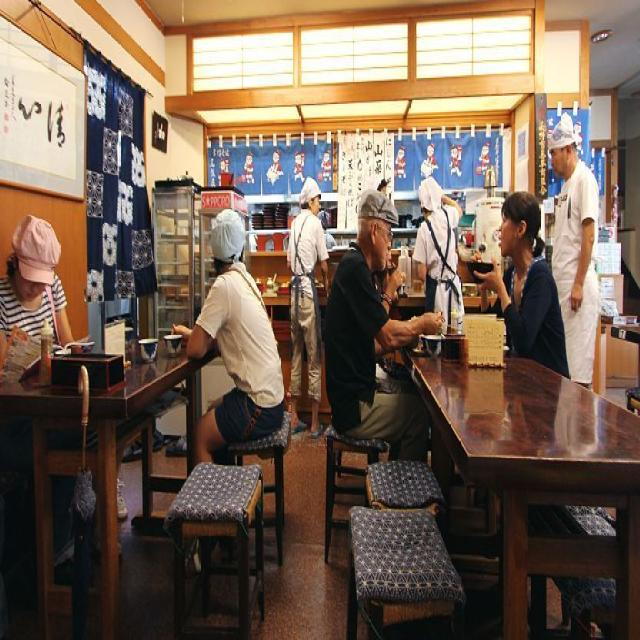person: (190, 210, 282, 469), (332, 182, 416, 450), (541, 112, 613, 387), (493, 187, 569, 376), (4, 204, 85, 380), (277, 157, 327, 434), (408, 153, 473, 344)
